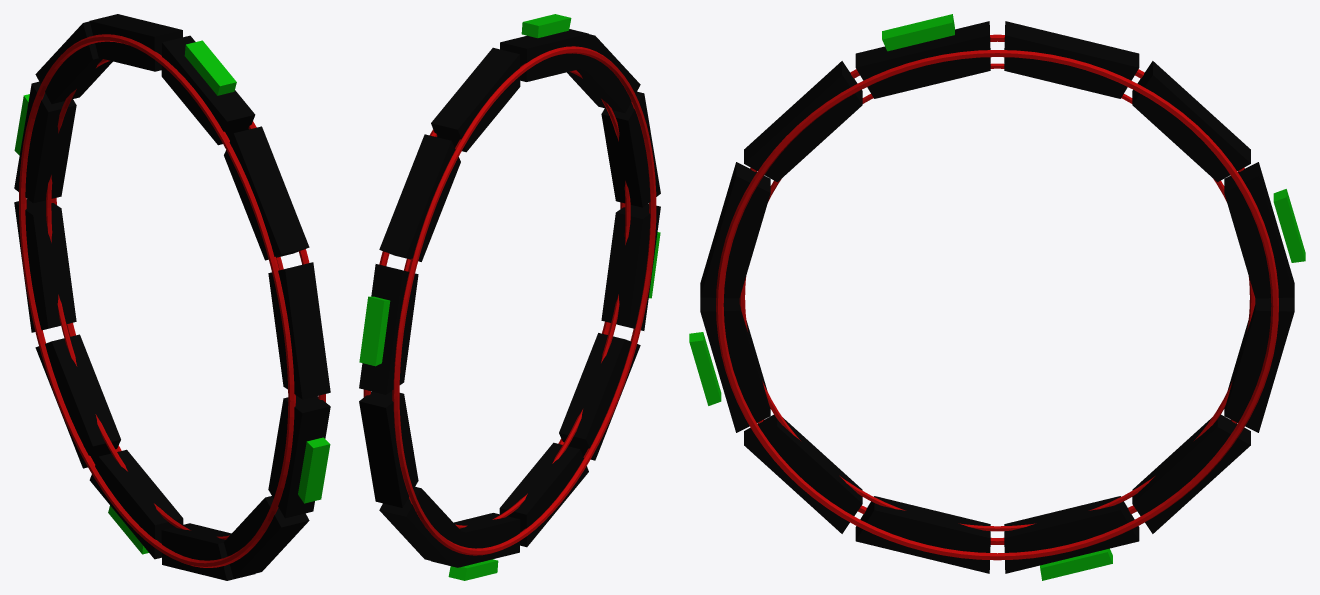
The model's file is portal_ring.glb.
The picture shows the model from 3 angles, left to right: view 1: azimuth 30°, elevation 25°; view 2: azimuth 150°, elevation 25°; view 3: azimuth 270°, elevation 25°; orthographic projection. The views are drawn at different scales.
Visible parts, largest first — view 1: PortalRing; view 2: PortalRing; view 3: PortalRing.
Part boxes in pixels (box(x1,y1,x2,y2)): PortalRing: box(14, 14, 330, 580); PortalRing: box(359, 14, 660, 580); PortalRing: box(689, 14, 1305, 580).
Size of the model in its own units: 0.7612 by 10.99 by 10.99.
